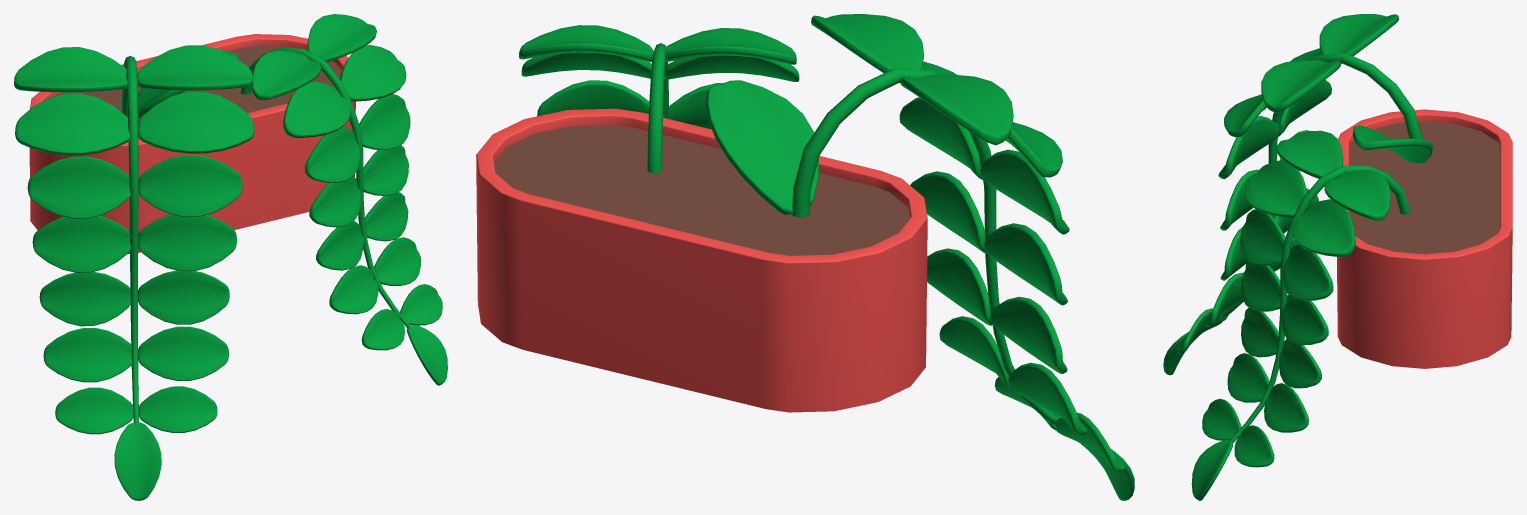
Rendered from Town_3_Plant_2.glb.
The picture shows the model from 3 angles, left to right: view 1: azimuth 30°, elevation 25°; view 2: azimuth 150°, elevation 25°; view 3: azimuth 270°, elevation 25°; orthographic projection. The views are drawn at different scales.
Parts seen in each view (by area): view 1: Town_3_Plant_2; view 2: Town_3_Plant_2; view 3: Town_3_Plant_2.
Boxes of the visible parts, bbox=[...] form: Town_3_Plant_2: bbox=[14, 14, 447, 500]; Town_3_Plant_2: bbox=[476, 14, 1134, 500]; Town_3_Plant_2: bbox=[1163, 14, 1512, 500].
Bounding box in the file's own units: 1.11 × 0.9982 × 0.854.
Materials: 1 (1 with a texture image).
